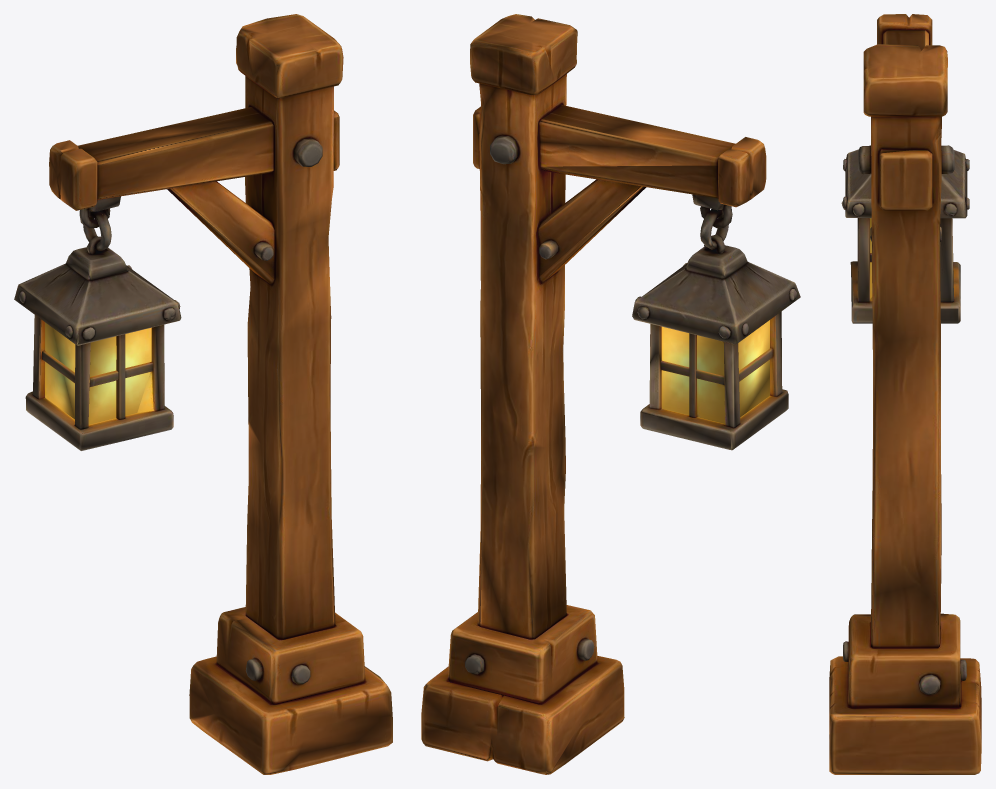
File: wood_lantern_post.glb
3 renders of one model, left to right at view 1: azimuth 30°, elevation 25°; view 2: azimuth 150°, elevation 25°; view 3: azimuth 270°, elevation 25°, orthographic. The views are drawn at different scales.
Parts seen in each view (by area): view 1: wood_lantern_post; view 2: wood_lantern_post; view 3: wood_lantern_post.
Boxes of the visible parts, <box> form: wood_lantern_post: <box>14,14,392,774</box>; wood_lantern_post: <box>421,14,800,774</box>; wood_lantern_post: <box>829,14,981,774</box>.
Bounding box in the file's own units: 0.9359 × 2 × 0.4033.
1 material, 1 textured.
